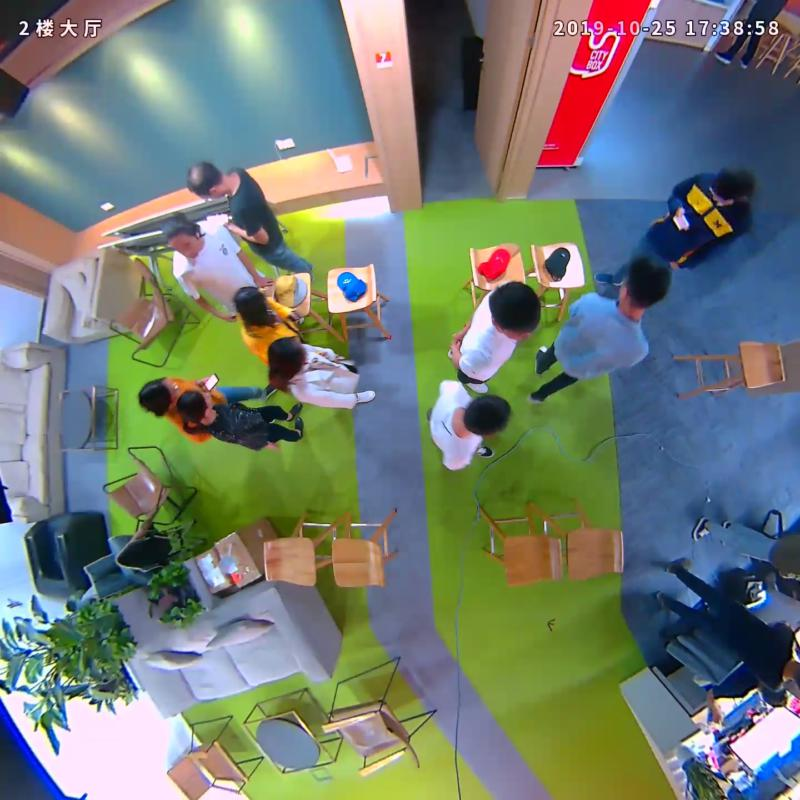head: (490, 281, 541, 343), (618, 258, 671, 310), (461, 395, 513, 438), (161, 216, 204, 259), (708, 167, 753, 206), (186, 161, 226, 199), (267, 335, 305, 375), (138, 378, 179, 411), (176, 390, 214, 421), (234, 284, 267, 319)
